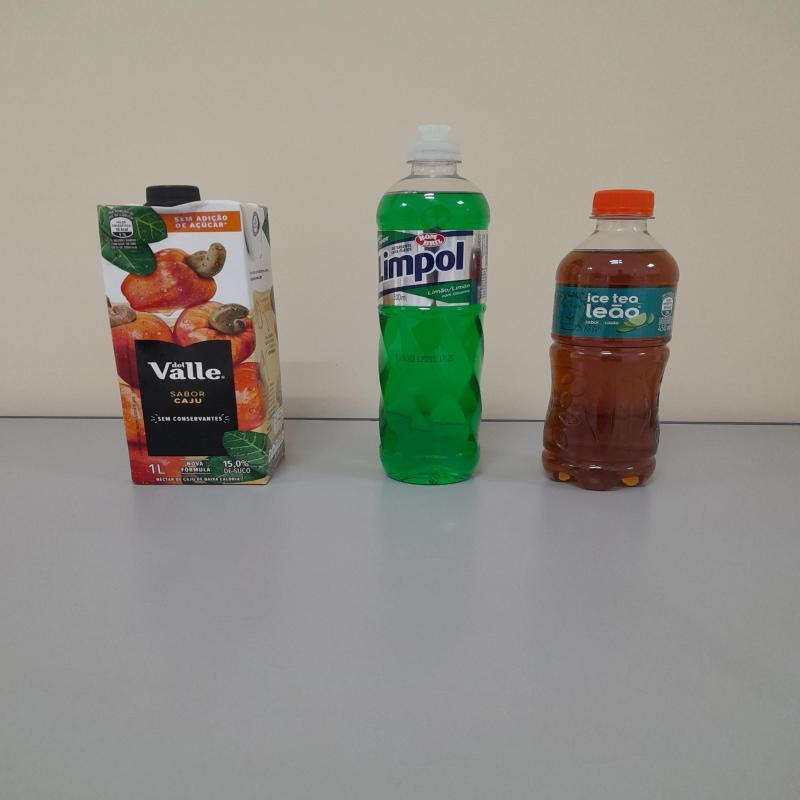Cleaner: (375, 124, 491, 488)
IceTea: (541, 190, 680, 494)
